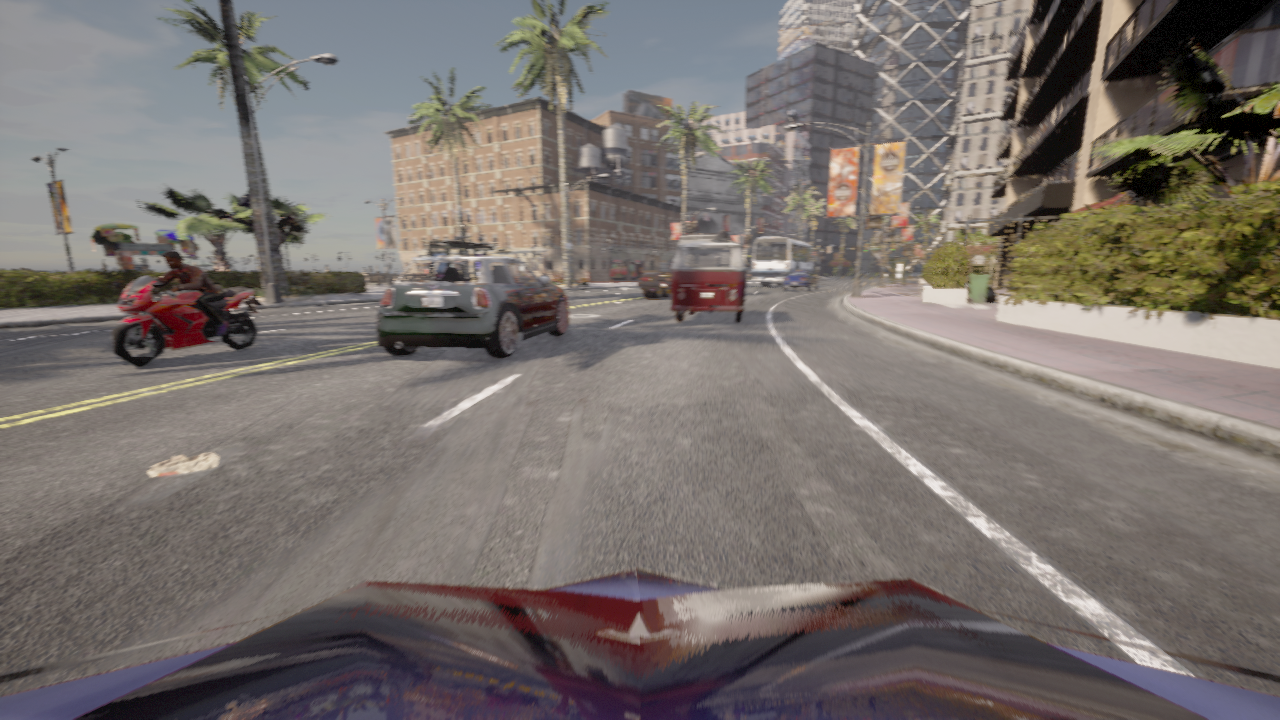cyclist: (0, 569, 1279, 719), (376, 256, 567, 358), (110, 276, 263, 367), (637, 231, 733, 298), (670, 242, 748, 323), (752, 237, 816, 287), (783, 270, 819, 291)
